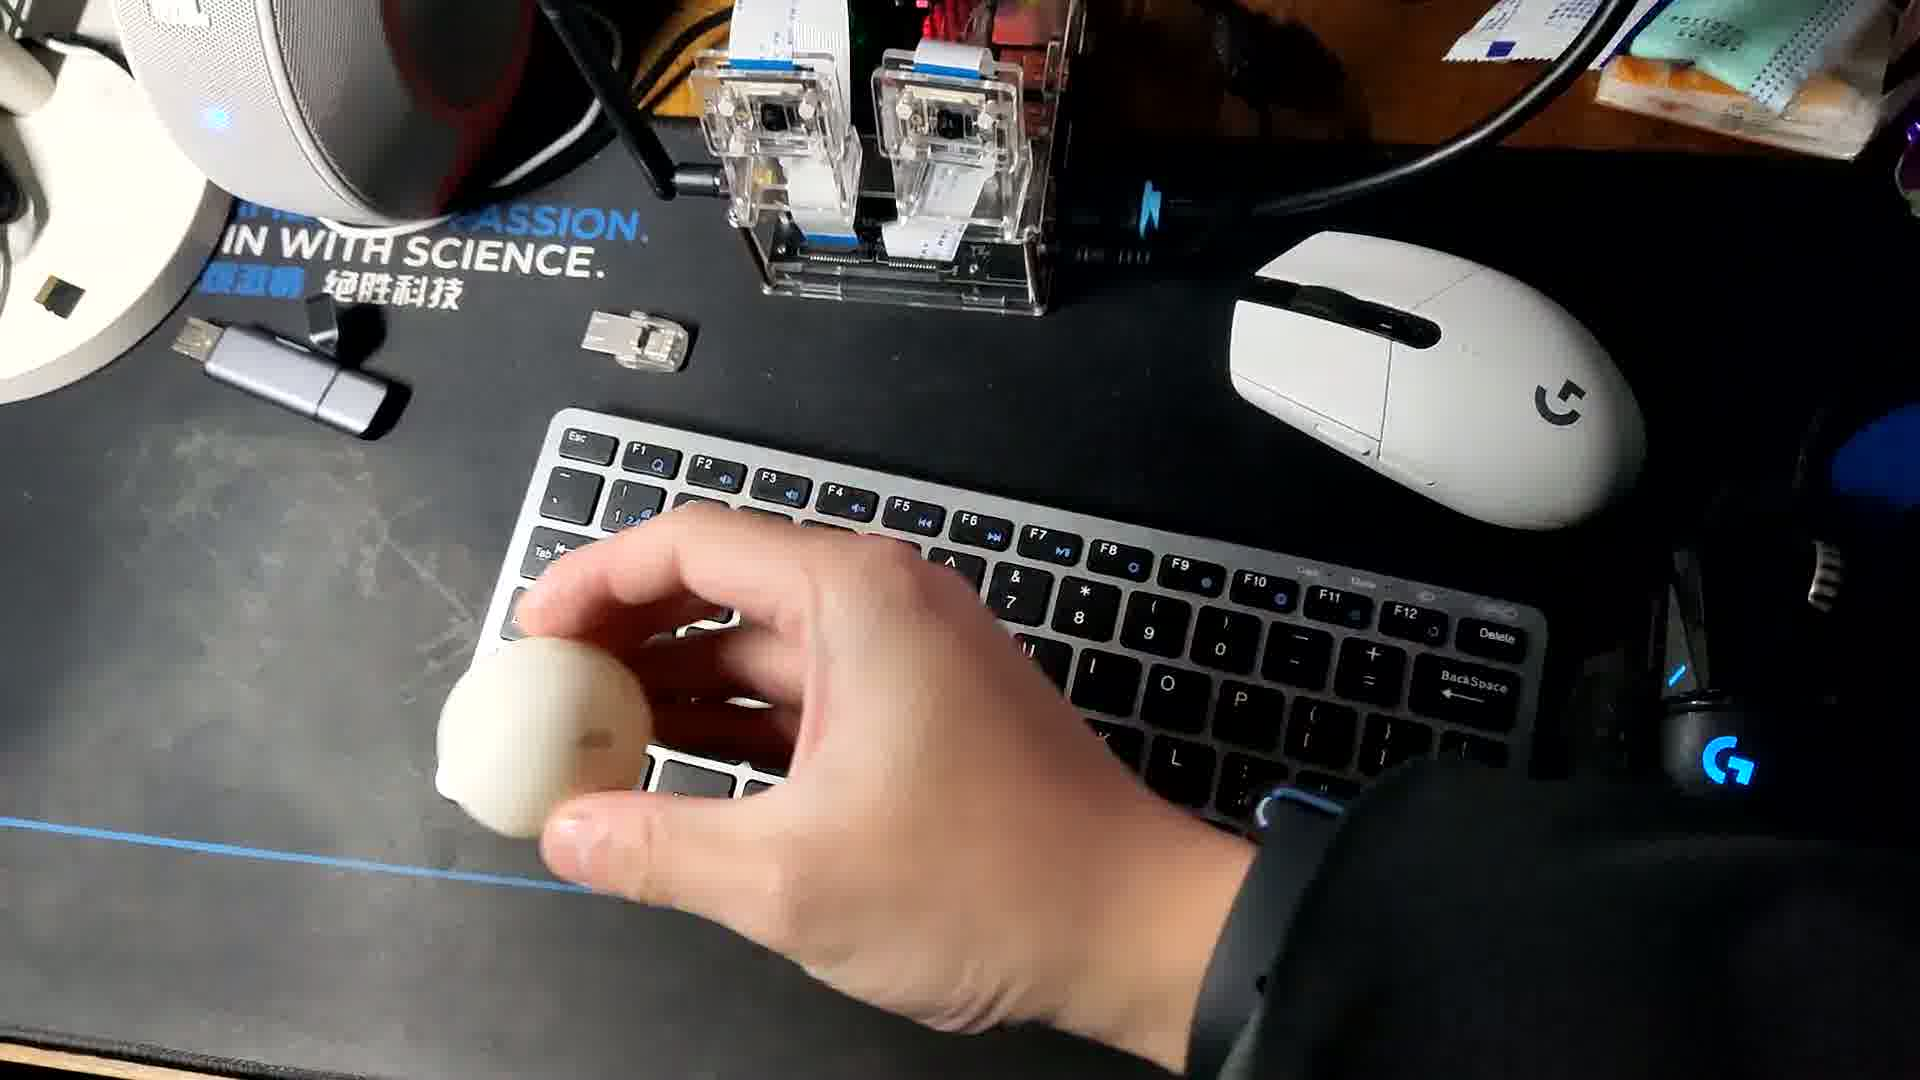Ball: (440, 641, 655, 847)
